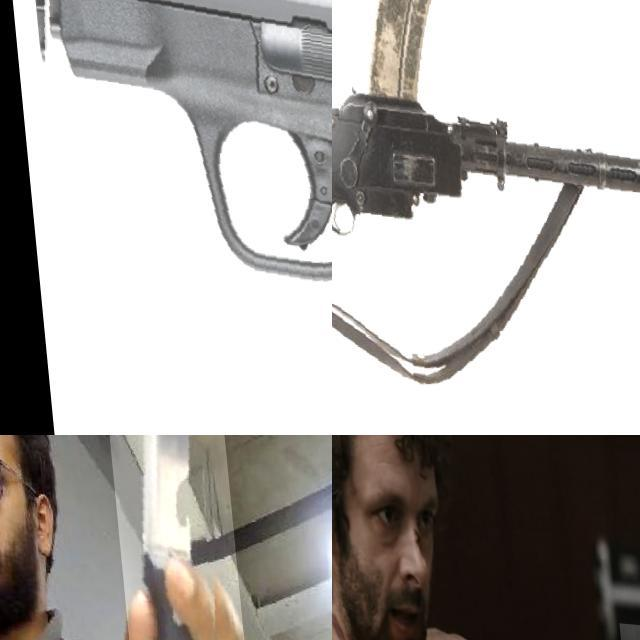-: (81, 435, 239, 640)
gun-knife-thesis - v11 Yolov5 augmented: (3, 0, 332, 435), (332, 0, 640, 435)
